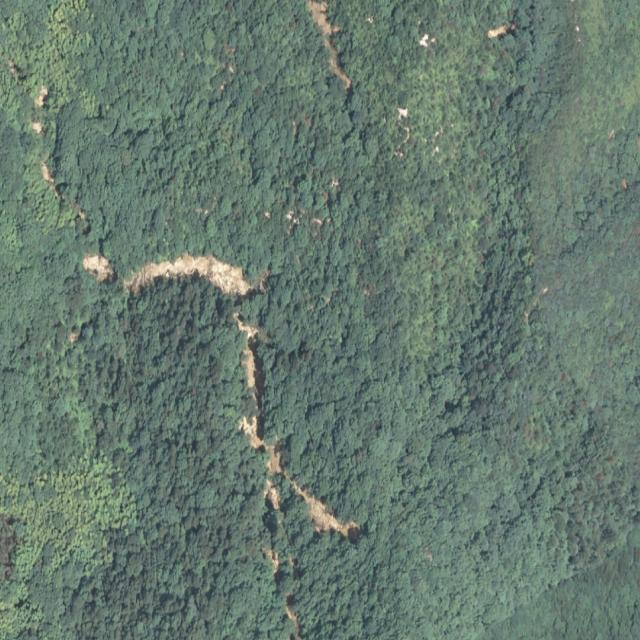landslide: (239, 415, 360, 542), (124, 253, 254, 296), (308, 0, 352, 88), (235, 313, 258, 406), (83, 254, 114, 283), (265, 481, 280, 510)
